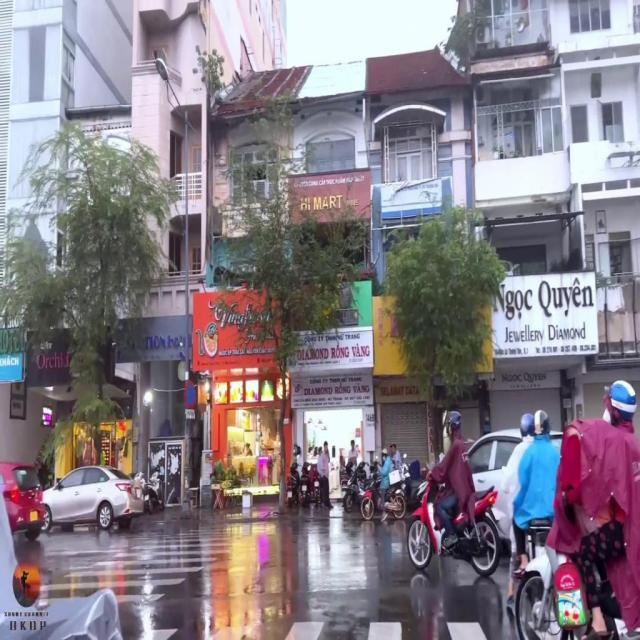cam_do_xe: (184, 379, 197, 410)
khac: (184, 409, 195, 422)
